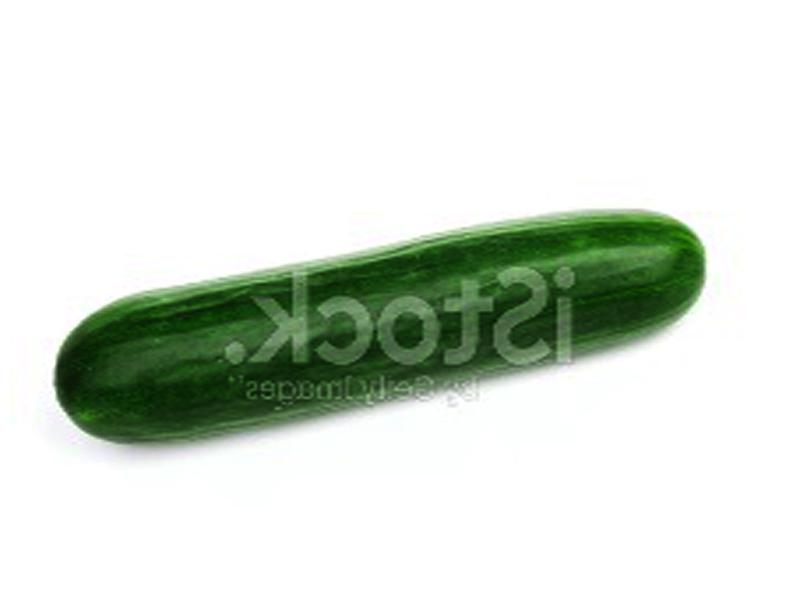Cucumber: (52, 211, 707, 441)
